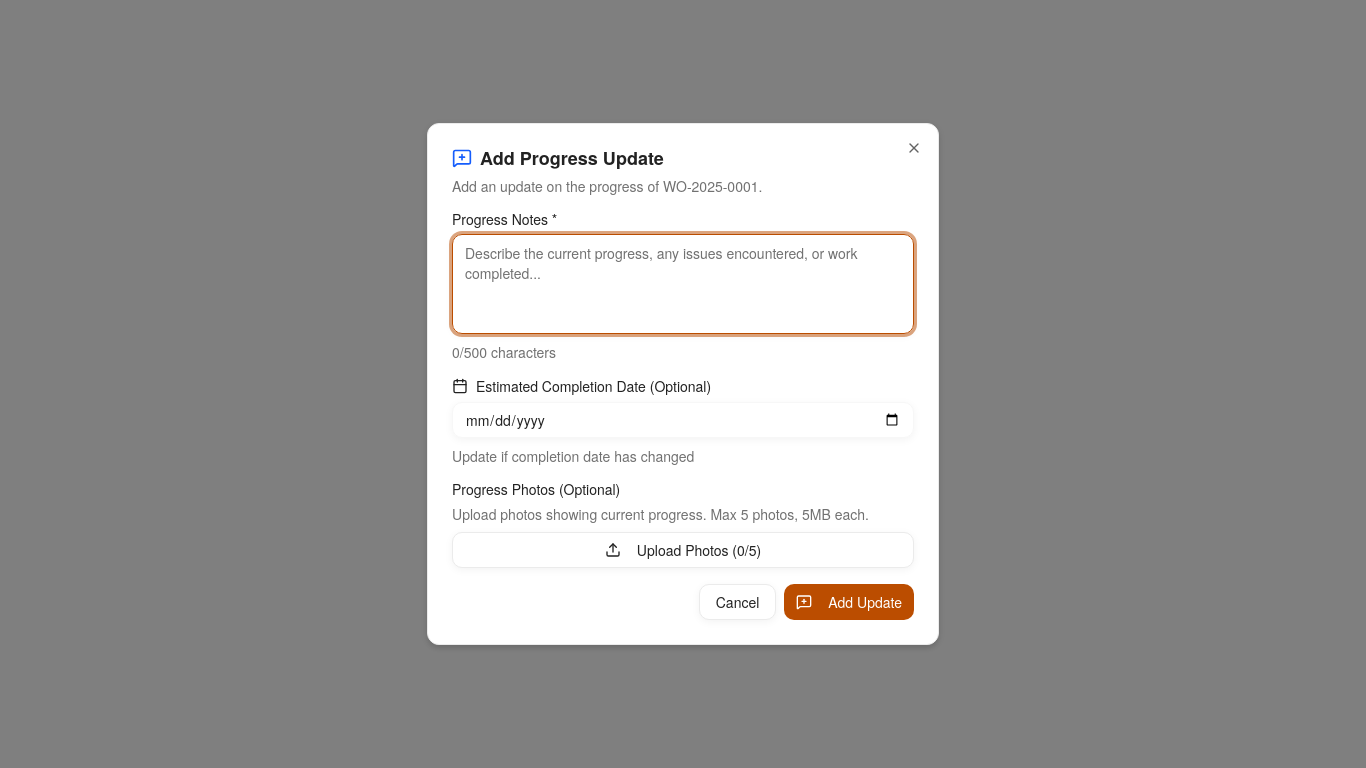
Test: ProgressUpdateDialog › should display character counter for progress notes
expect the text "0/500 characters" is shown: met, box [452,342,556,362]
In the text box with placeholder "Describe the current progress": (683, 284) [452,234,914,334], type "Test progress"
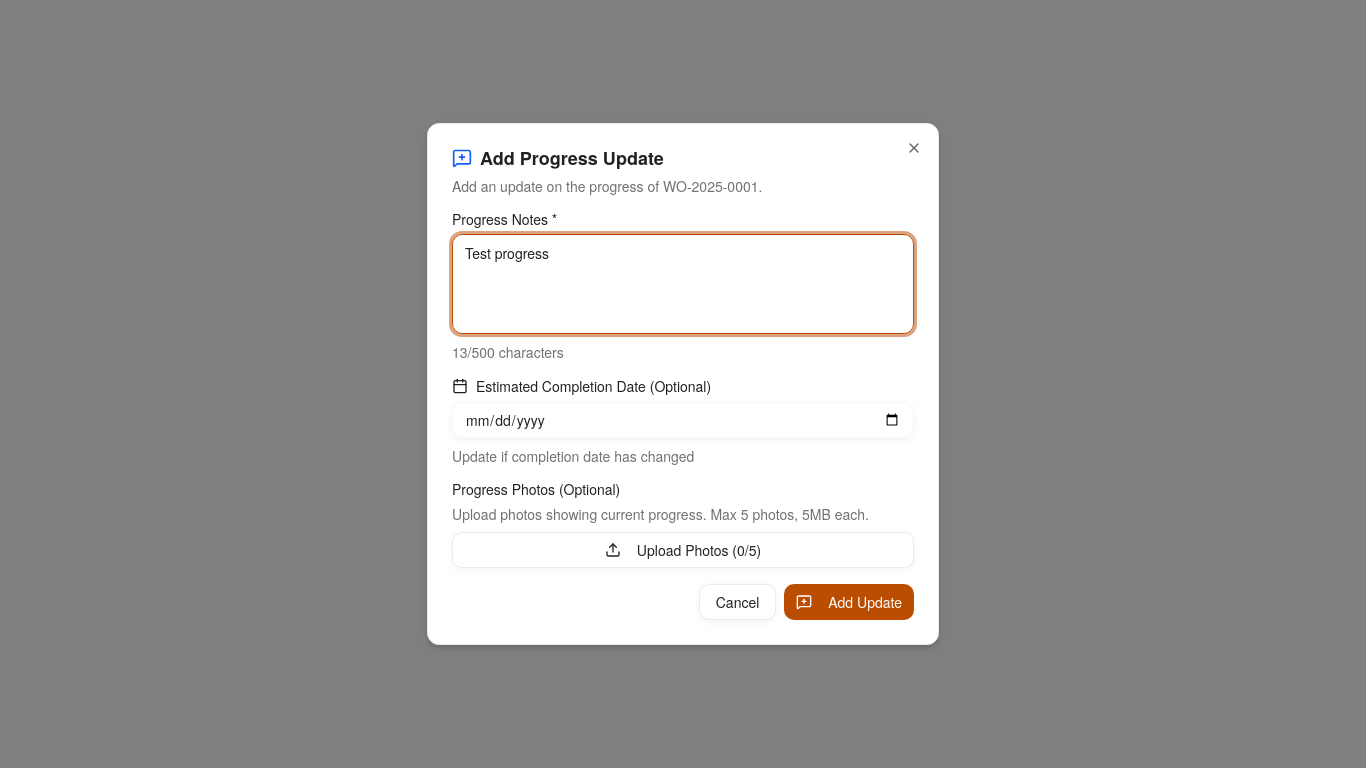
expect the text "13/500 characters" is shown: met, box [452,342,564,362]
